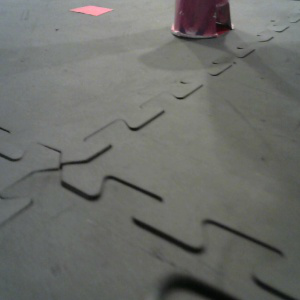right: (169, 1, 234, 38)
